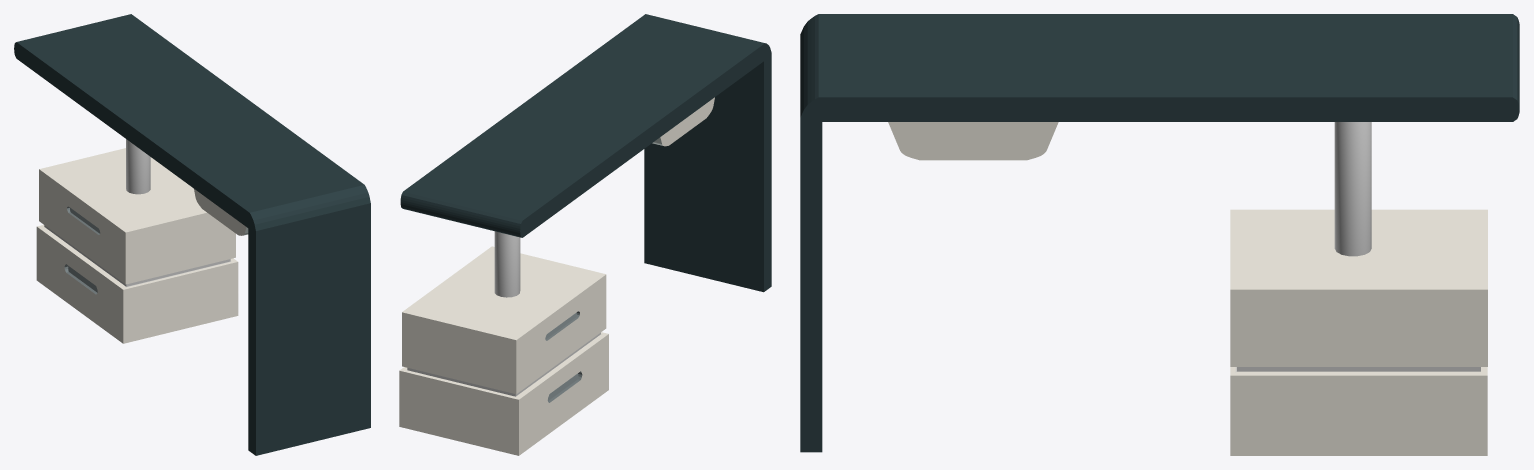
The model's file is Table.fbx.
3 views of the same model, side by side, from view 1: azimuth 30°, elevation 25°; view 2: azimuth 150°, elevation 25°; view 3: azimuth 270°, elevation 25° (orthographic). The views are drawn at different scales.
Visible parts, largest first — view 1: TaulaBase, Cajon, Cilider, MiniBase; view 2: TaulaBase, Cajon, Cilider, MiniBase; view 3: TaulaBase, Cajon, MiniBase, Cilider.
Part boxes in pixels (bbox=[...]): TaulaBase: bbox=[14, 14, 370, 455]; Cajon: bbox=[36, 148, 238, 343]; Cilider: bbox=[126, 139, 150, 194]; MiniBase: bbox=[194, 189, 248, 235]; TaulaBase: bbox=[400, 14, 771, 292]; Cajon: bbox=[399, 246, 608, 455]; Cilider: bbox=[494, 231, 520, 297]; MiniBase: bbox=[652, 97, 714, 146]; TaulaBase: bbox=[800, 14, 1519, 452]; Cajon: bbox=[1230, 209, 1487, 455]; MiniBase: bbox=[888, 122, 1058, 160]; Cilider: bbox=[1334, 122, 1371, 256].
Bounding box in the file's own units: 221 × 397 × 729.
